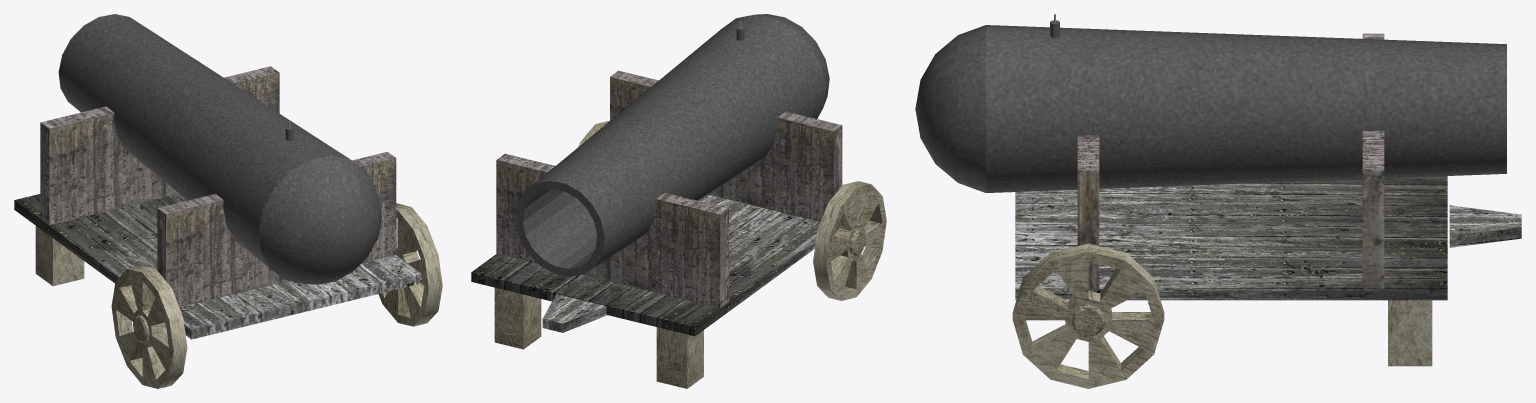
File: Cannon.FBX
3 renders of one model, left to right at view 1: azimuth 30°, elevation 25°; view 2: azimuth 150°, elevation 25°; view 3: azimuth 270°, elevation 25°, orthographic. The views are drawn at different scales.
Parts seen in each view (by area): view 1: Cannon, Cannon Cart, Cannon Cart Upright, Cannon Cart Upright001, Cannon Wheel 002, Cannon Wheel 001, Box001; view 2: Cannon, Cannon Cart, Cannon Cart Upright, Cannon Cart Upright001, Cannon Wheel 002, Box001, Object001, Cannon Tow Bar; view 3: Cannon, Cannon Cart, Cannon Wheel 001, Cannon Cart Upright, Object001, Cannon Cart Upright001, Cannon Tow Bar.
Part boxes in pixels (left/top/right/bottom): Cannon: left=58, top=14, right=381, bottom=284; Cannon Cart: left=14, top=194, right=421, bottom=339; Cannon Cart Upright: left=40, top=66, right=279, bottom=225; Cannon Cart Upright001: left=157, top=152, right=396, bottom=307; Cannon Wheel 002: left=111, top=265, right=187, bottom=388; Cannon Wheel 001: left=378, top=203, right=442, bottom=326; Box001: left=35, top=226, right=84, bottom=286; Cannon: left=515, top=14, right=829, bottom=276; Cannon Cart: left=471, top=194, right=838, bottom=336; Cannon Cart Upright: left=496, top=153, right=728, bottom=307; Cannon Cart Upright001: left=610, top=70, right=842, bottom=221; Cannon Wheel 002: left=813, top=181, right=886, bottom=300; Box001: left=656, top=327, right=703, bottom=388; Object001: left=494, top=287, right=541, bottom=349; Cannon Tow Bar: left=542, top=294, right=606, bottom=332; Cannon: left=915, top=25, right=1506, bottom=192; Cannon Cart: left=1015, top=176, right=1447, bottom=300; Cannon Wheel 001: left=1012, top=243, right=1164, bottom=388; Cannon Cart Upright: left=1362, top=33, right=1384, bottom=288; Object001: left=1388, top=300, right=1432, bottom=366; Cannon Cart Upright001: left=1077, top=135, right=1099, bottom=288; Cannon Tow Bar: left=1449, top=205, right=1521, bottom=247.
Bounding box in the file's own units: 70.83 × 58.99 × 110.
2 materials, 1 textured.
